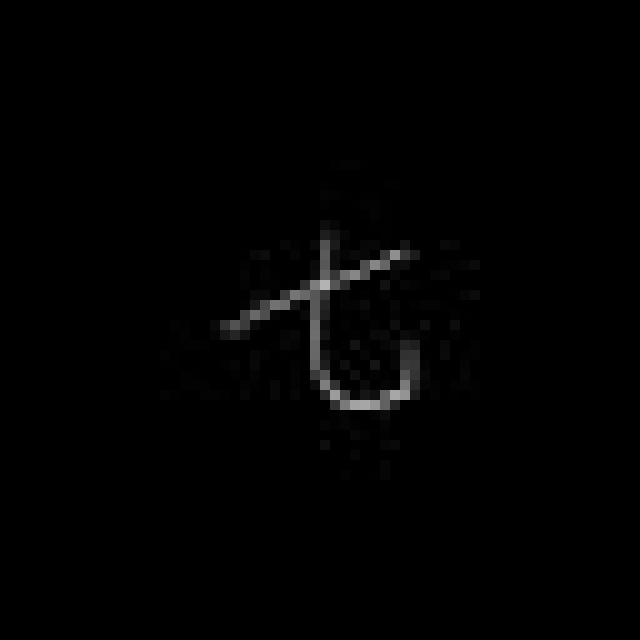7 -seven-: (210, 218, 424, 421)
